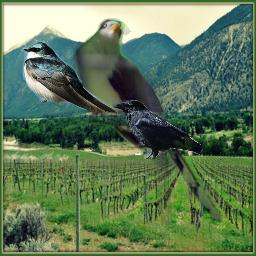Crow: (112, 100, 201, 159)
Cuckoo: (73, 18, 233, 225)
Swallow: (22, 41, 118, 116)
